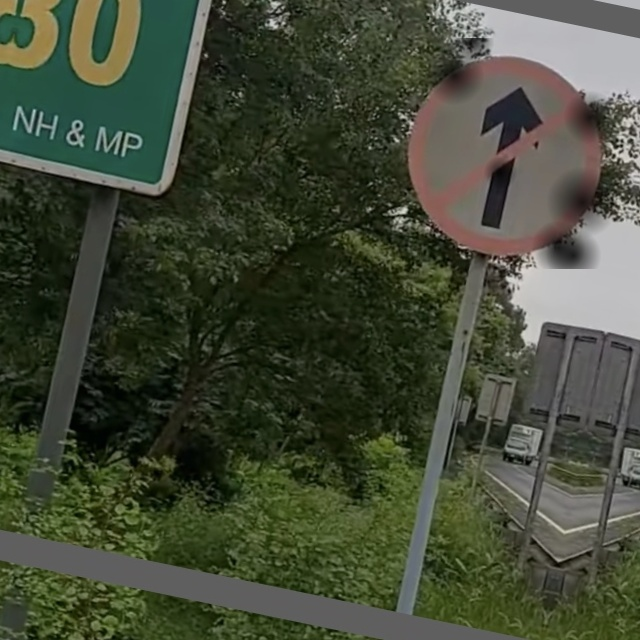No_Entry: (393, 38, 621, 269)
